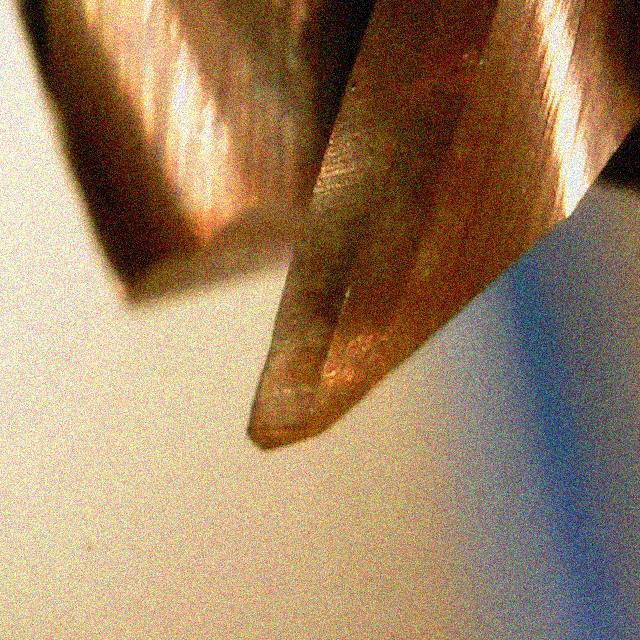Tool-wear-class-1: (220, 291, 405, 458)
